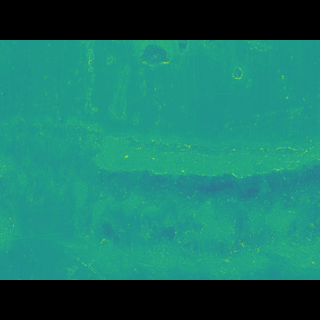Loch: (0, 126, 320, 248)
